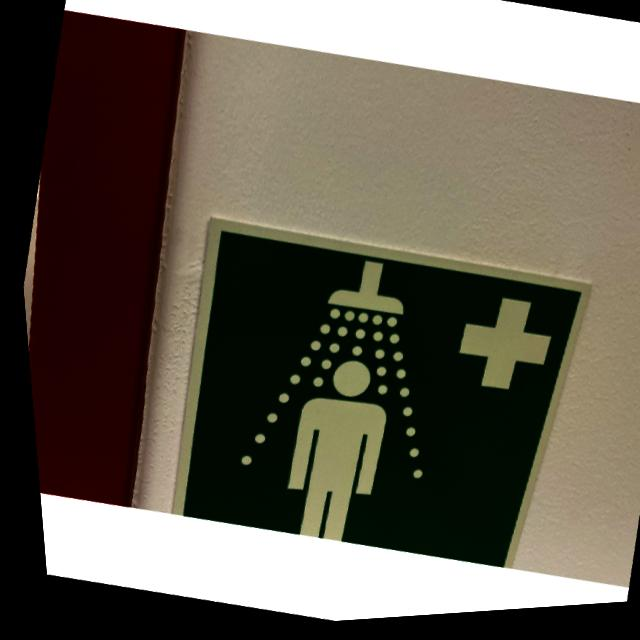shower: (138, 199, 606, 602)
